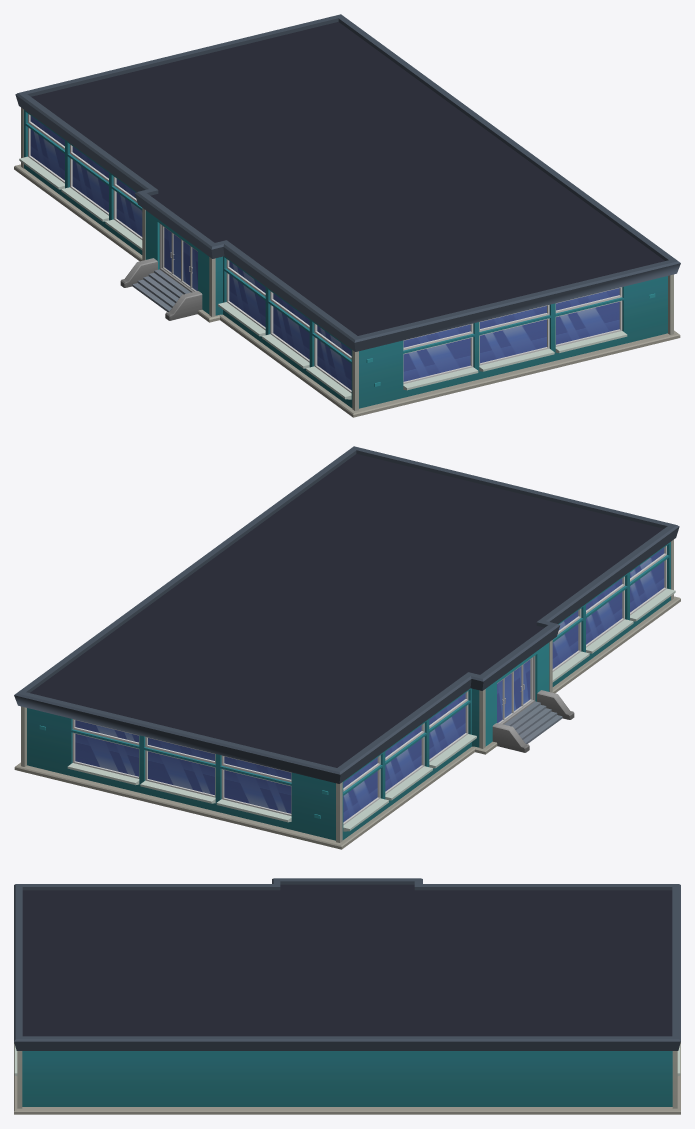
Rendered from Building_16_1_G.fbx.
3 views of the same model, one above another, from view 1: azimuth 30°, elevation 25°; view 2: azimuth 150°, elevation 25°; view 3: azimuth 270°, elevation 25° (orthographic).
Visible parts, largest first — view 1: Building_16_1_G; view 2: Building_16_1_G; view 3: Building_16_1_G.
Part boxes in pixels (<box>): Building_16_1_G: <box>14,14,680,417</box>; Building_16_1_G: <box>14,446,680,849</box>; Building_16_1_G: <box>14,878,680,1114</box>.
Size of the model in its own units: 1888 by 375 by 3026.
